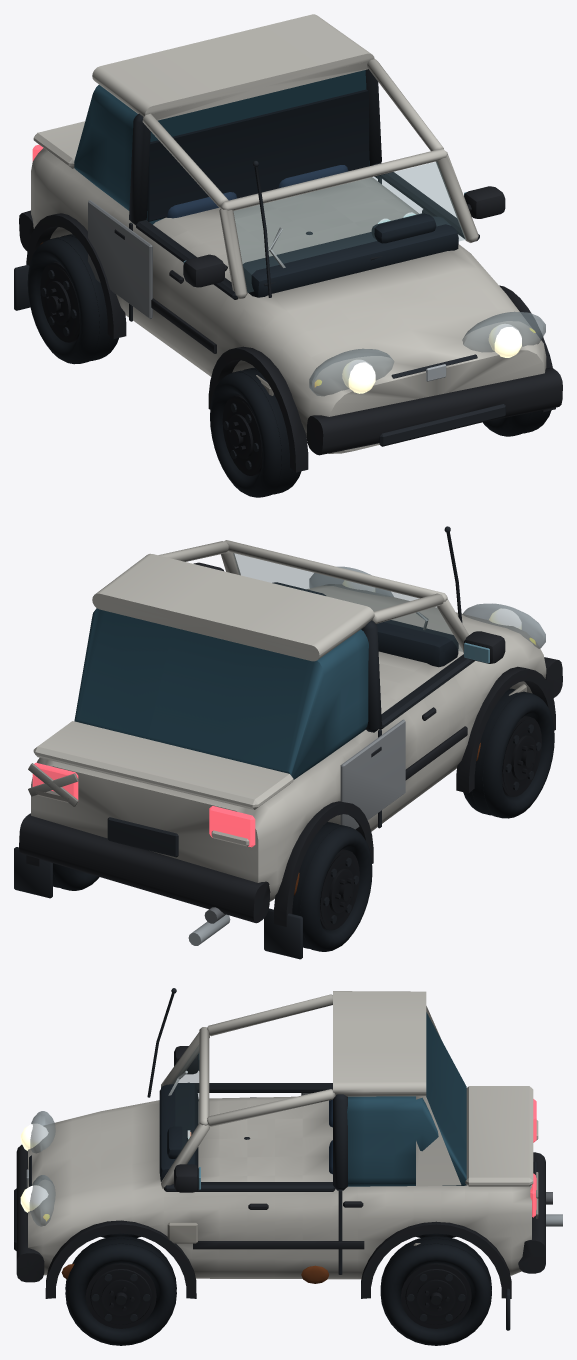
Rendered from el-tiburon.glb.
3 views of the same model, one above another, from view 1: azimuth 30°, elevation 25°; view 2: azimuth 150°, elevation 25°; view 3: azimuth 270°, elevation 25° (orthographic). The views are drawn at different scales.
Visible parts, largest first — view 1: el-tiburon-hull, el-tiburon-roof, el-tiburon-bulkhead, el-tiburon-windscreen, el-tiburon-bumpers, el-tiburon-greenhouse-glass, el-tiburon-windscreen-frame, el-tiburon-dashboard, el-tiburon-wheel-lips, el-tiburon-tire-front-right.006, el-tiburon-tire-rear-right.006, el-tiburon-primer (+13 smaller); view 2: el-tiburon-greenhouse-glass, el-tiburon-hull, el-tiburon-roof, el-tiburon-bumpers, el-tiburon-pillars, el-tiburon-tire-front-right.006, el-tiburon-wheel-lips, el-tiburon-tire-rear-right.006, el-tiburon-windscreen-frame, el-tiburon-windscreen, el-tiburon-primer, el-tiburon-detail-levers (+14 smaller); view 3: el-tiburon-hull, el-tiburon-greenhouse-glass, el-tiburon-roof, el-tiburon-pillars, el-tiburon-tire-rear-left.006, el-tiburon-tire-front-left.006, el-tiburon-wheel-lips, el-tiburon-bumpers, el-tiburon-windscreen-frame, el-tiburon-rim-rear-left.006, el-tiburon-rim-front-left.006, el-tiburon-door-top-trim (+11 smaller).
Boxes of the visible parts, bbox=[...] form: el-tiburon-hull: bbox=[31, 148, 546, 453]; el-tiburon-roof: bbox=[92, 14, 374, 120]; el-tiburon-bulkhead: bbox=[147, 89, 369, 221]; el-tiburon-windscreen: bbox=[234, 162, 465, 292]; el-tiburon-bumpers: bbox=[19, 175, 562, 455]; el-tiburon-greenhouse-glass: bbox=[74, 70, 369, 224]; el-tiburon-windscreen-frame: bbox=[142, 59, 478, 299]; el-tiburon-dashboard: bbox=[242, 216, 458, 297]; el-tiburon-wheel-lips: bbox=[26, 213, 555, 472]; el-tiburon-tire-front-right.006: bbox=[210, 367, 301, 497]; el-tiburon-tire-rear-right.006: bbox=[27, 234, 118, 364]; el-tiburon-primer: bbox=[88, 200, 152, 318]; el-tiburon-greenhouse-glass: bbox=[74, 608, 368, 779]; el-tiburon-hull: bbox=[31, 584, 546, 901]; el-tiburon-roof: bbox=[92, 553, 374, 661]; el-tiburon-bumpers: bbox=[19, 657, 562, 923]; el-tiburon-pillars: bbox=[33, 721, 293, 809]; el-tiburon-tire-front-right.006: bbox=[463, 688, 554, 818]; el-tiburon-wheel-lips: bbox=[26, 666, 555, 926]; el-tiburon-tire-rear-right.006: bbox=[292, 822, 372, 951]; el-tiburon-windscreen-frame: bbox=[158, 540, 468, 651]; el-tiburon-windscreen: bbox=[233, 553, 462, 651]; el-tiburon-primer: bbox=[340, 719, 405, 829]; el-tiburon-detail-levers: bbox=[14, 526, 462, 959]; el-tiburon-hull: bbox=[28, 1096, 531, 1279]; el-tiburon-greenhouse-glass: bbox=[347, 1012, 466, 1186]; el-tiburon-roof: bbox=[333, 991, 426, 1096]; el-tiburon-pillars: bbox=[416, 1006, 533, 1186]; el-tiburon-tire-rear-left.006: bbox=[380, 1235, 491, 1345]; el-tiburon-tire-front-left.006: bbox=[65, 1236, 176, 1345]; el-tiburon-wheel-lips: bbox=[45, 1220, 511, 1298]; el-tiburon-bumpers: bbox=[16, 1097, 545, 1282]; el-tiburon-windscreen-frame: bbox=[161, 994, 335, 1189]; el-tiburon-rim-rear-left.006: bbox=[400, 1263, 471, 1328]; el-tiburon-rim-front-left.006: bbox=[85, 1263, 156, 1328]; el-tiburon-door-top-trim: bbox=[164, 1083, 335, 1191].
Bounding box in the file's own units: 2.48 × 2.27 × 4.36.
